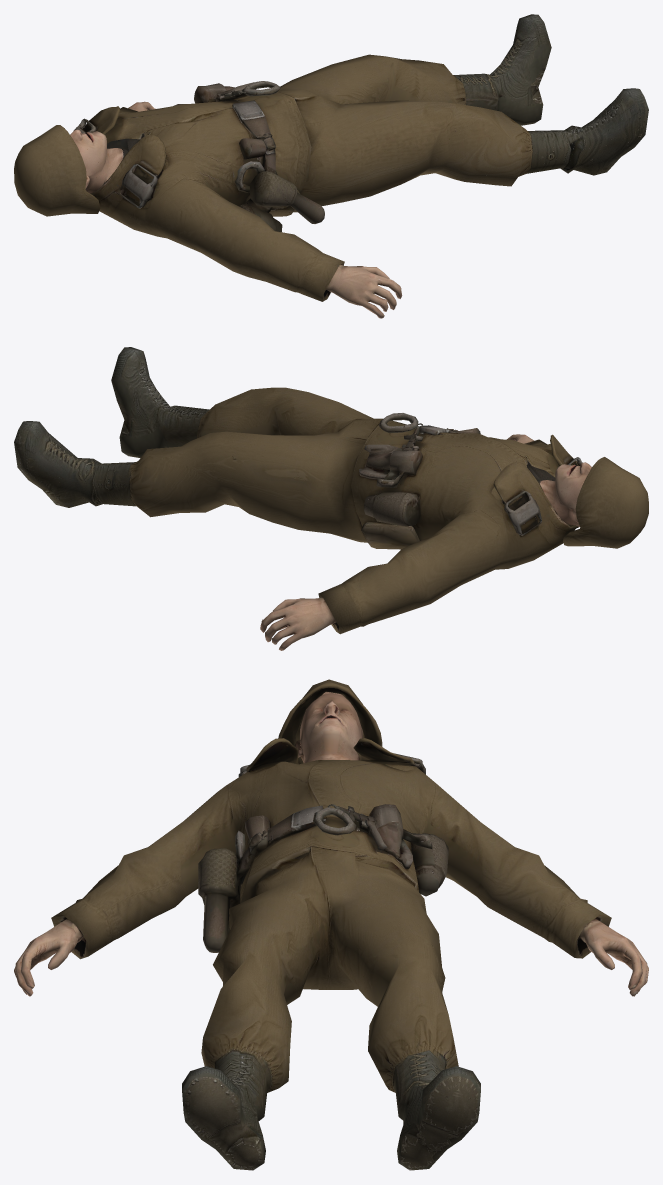
Rendered from ww1 dead british soldier 3d modelv2.glb.
3 views of the same model, one above another, from view 1: azimuth 30°, elevation 25°; view 2: azimuth 150°, elevation 25°; view 3: azimuth 270°, elevation 25° (orthographic). The views are drawn at different scales.
Parts seen in each view (by area): view 1: tripo_node_5f3d3c30-547d-47c5-a26d-16d23f7d25da; view 2: tripo_node_5f3d3c30-547d-47c5-a26d-16d23f7d25da; view 3: tripo_node_5f3d3c30-547d-47c5-a26d-16d23f7d25da.
Part boxes in pixels (x1,y1,x2,y2): tripo_node_5f3d3c30-547d-47c5-a26d-16d23f7d25da: (14, 14, 648, 318); tripo_node_5f3d3c30-547d-47c5-a26d-16d23f7d25da: (14, 347, 648, 650); tripo_node_5f3d3c30-547d-47c5-a26d-16d23f7d25da: (14, 679, 648, 1170).
Size of the model in its own units: 0.998 by 0.252 by 0.7676.
Materials: 1 (1 with a texture image).
